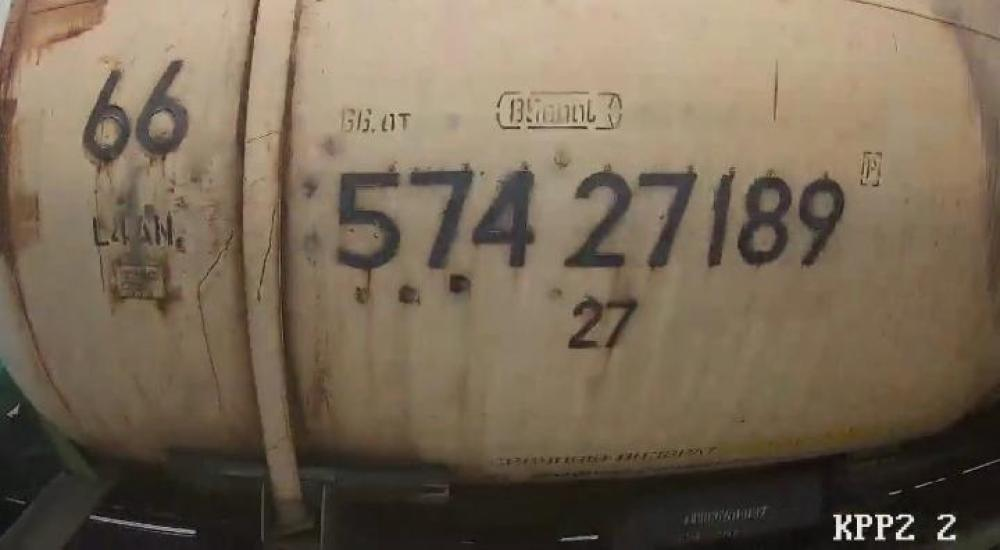Wagon-number: (328, 163, 852, 276)
